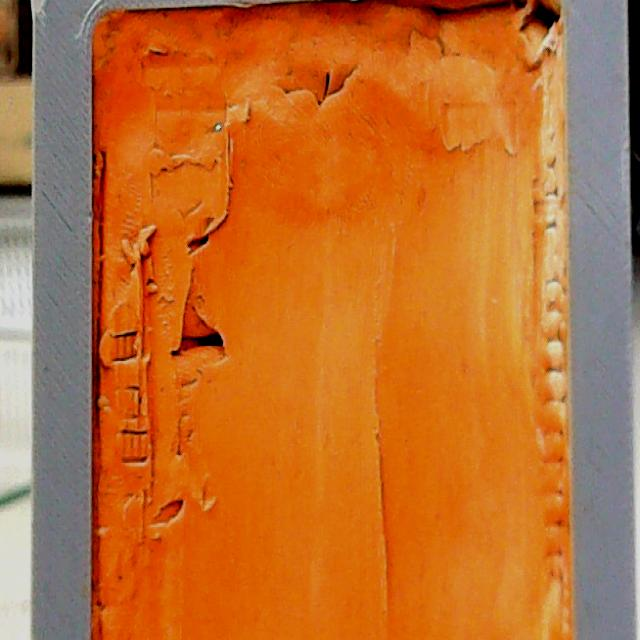block: (11, 0, 634, 632)
